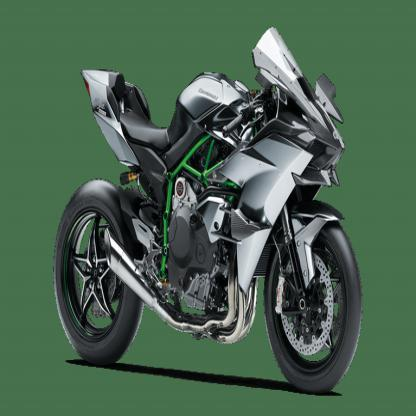Motorcycle: (50, 36, 364, 396)
